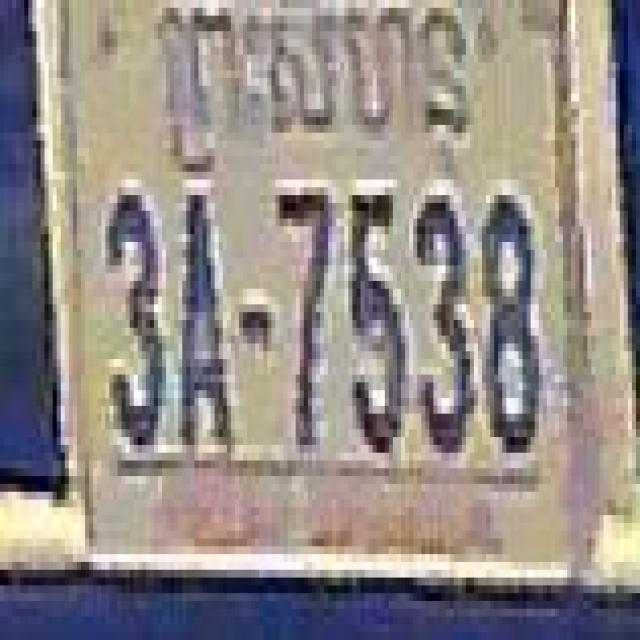Preah_Sihanouk: (158, 8, 470, 180)
